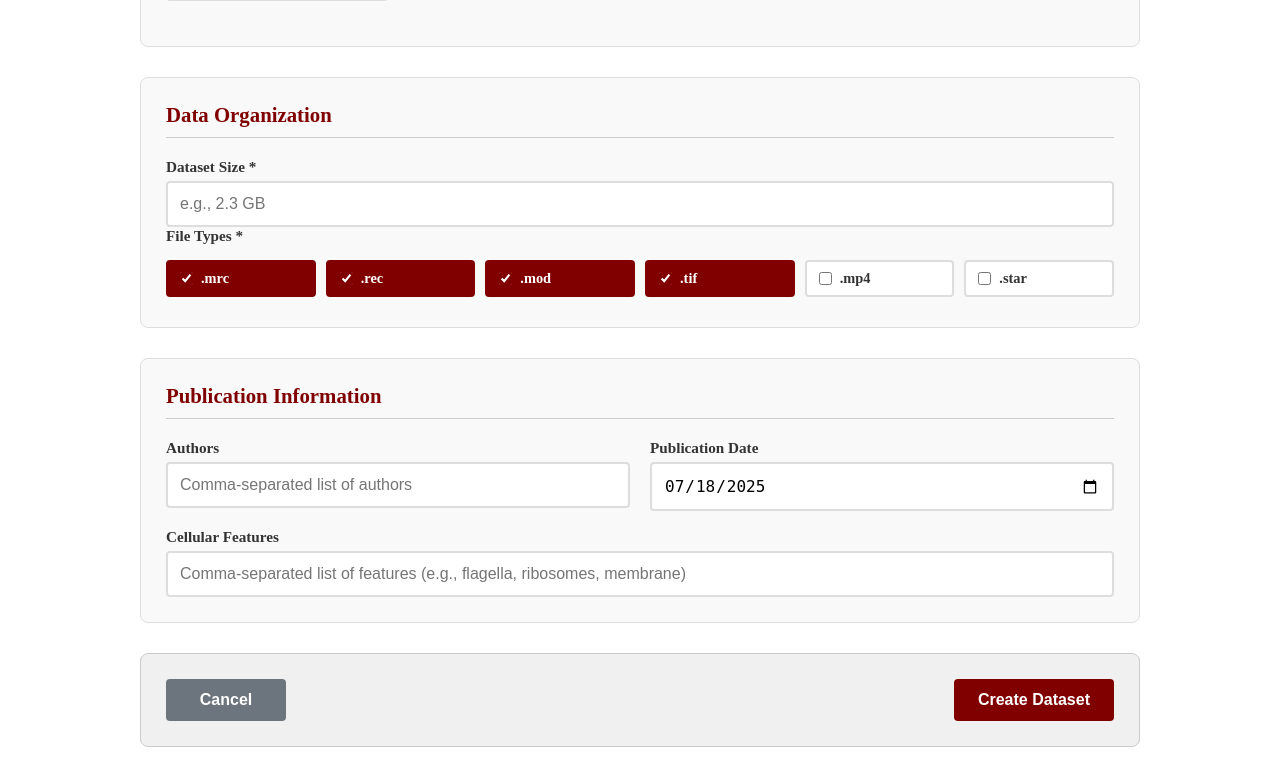
Scenario: AddDatasetForm › Form Validation › should clear errors when user starts typing
(page scrolled)
Note: Trigger validation errors
Click the button "Create Dataset": (1034, 700) [954,679,1114,721]
(page scrolled)
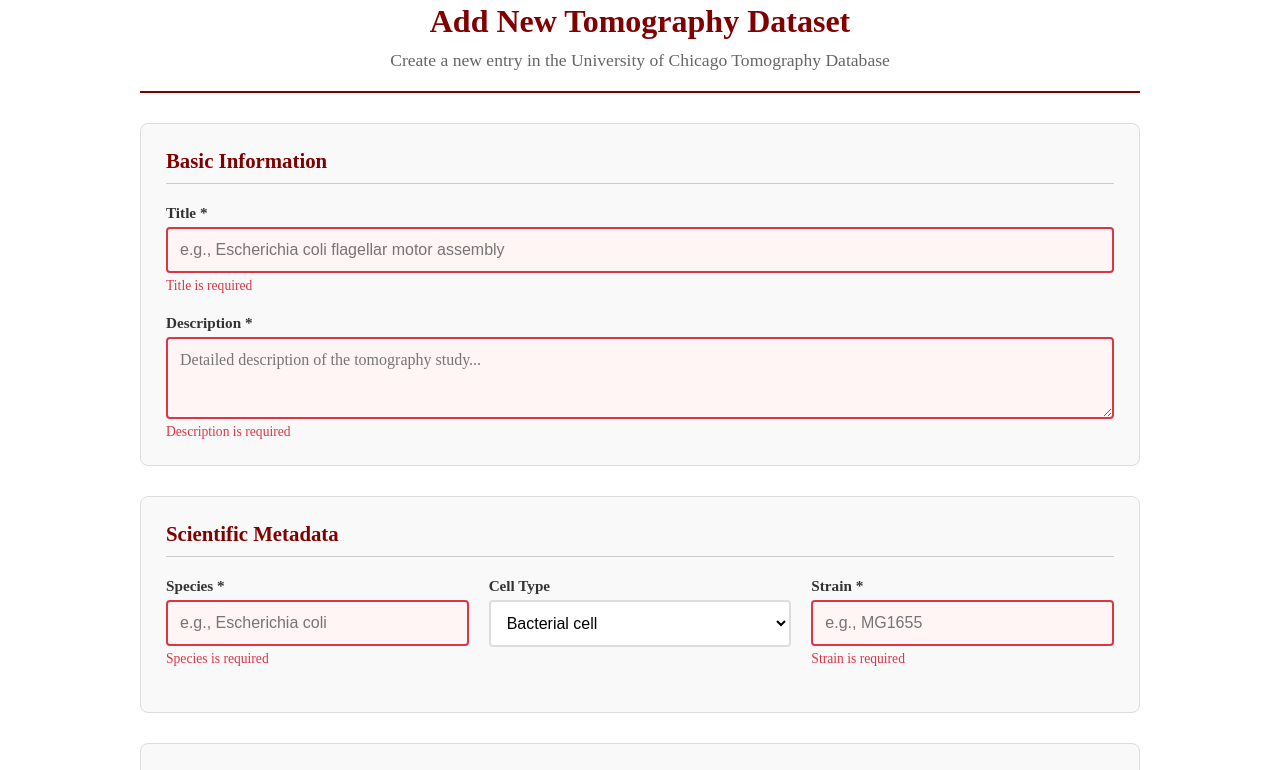
Expected: the text "Title is required" is shown, [166,278,252,293]
Note: Start typing in title field
In the field labelled "Title *": (640, 250) [166,227,1114,273], type "Test"
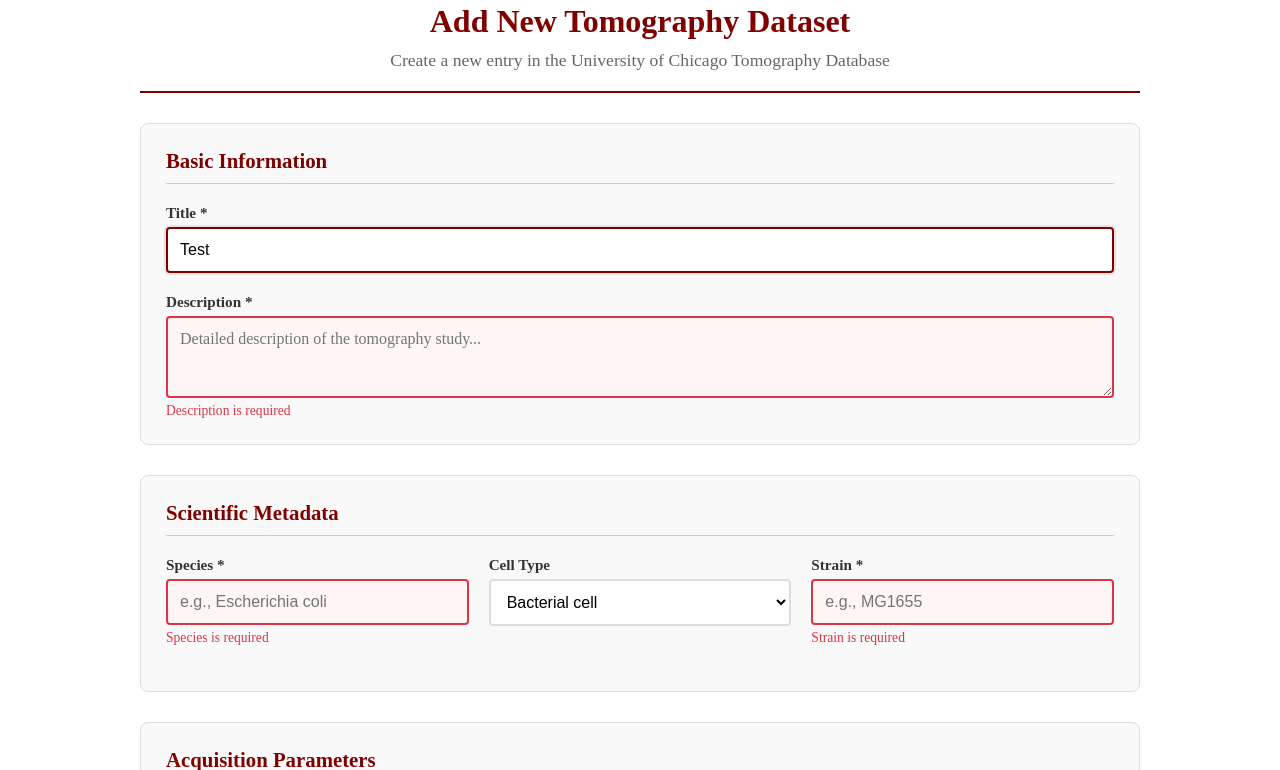
Expected: the text "Title is required" is gone
